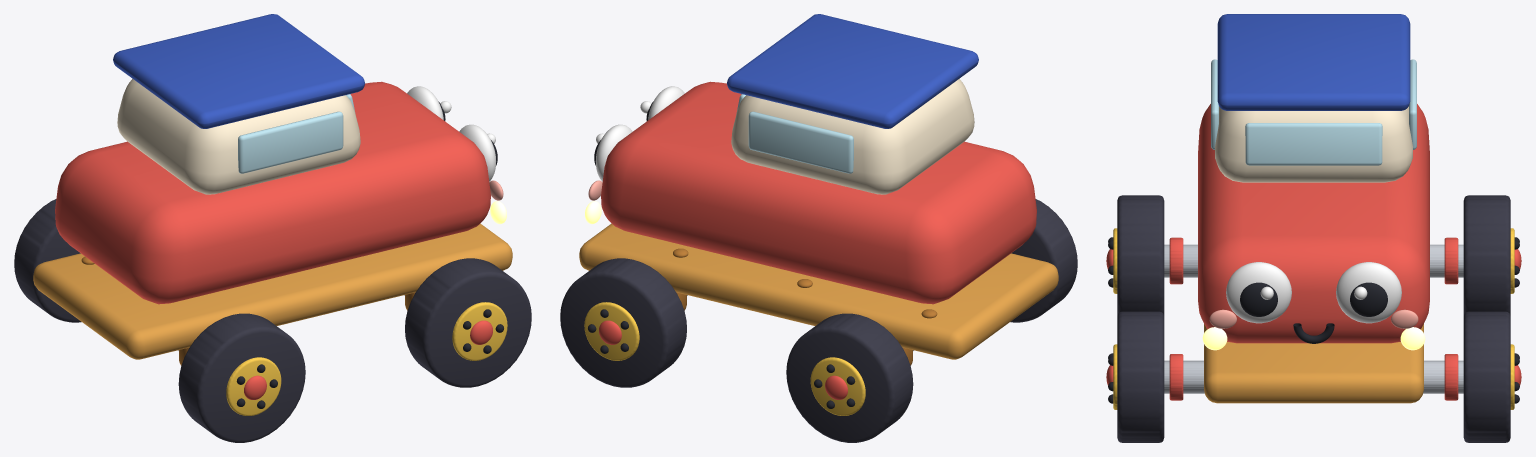
File: toy_car.glb
3 views of the same model, side by side, from view 1: azimuth 30°, elevation 25°; view 2: azimuth 150°, elevation 25°; view 3: azimuth 270°, elevation 25° (orthographic). The views are drawn at different scales.
Parts seen in each view (by area): view 1: ShellBody, ChassisBoard, RoofCap, Cabin, WheelFRTire, WheelRRTire, Window-1, WheelRLTire, WheelFRHub, WheelRRHub, EyeWhite-1, EyeWhite1; view 2: ShellBody, ChassisBoard, RoofCap, Cabin, WheelFLTire, WheelRLTire, Window1, WheelRRTire, WheelFLHub, WheelRLHub, EyeWhite1, EyeWhite-1; view 3: ShellBody, RoofCap, ChassisBoard, Cabin, WheelFLTire, WheelFRTire, FrontGlass, WheelRLTire, WheelRRTire, EyeWhite1, EyeWhite-1, AxleFrontRod (+14 smaller).
Part boxes in pixels (<box>): ShellBody: <box>55,81,490,304</box>; ChassisBoard: <box>33,223,512,359</box>; RoofCap: <box>113,14,364,128</box>; Cabin: <box>117,79,360,194</box>; WheelFRTire: <box>405,258,531,387</box>; WheelRRTire: <box>178,313,305,442</box>; Window-1: <box>238,111,343,173</box>; WheelRLTire: <box>14,199,81,322</box>; WheelFRHub: <box>452,302,507,360</box>; WheelRRHub: <box>226,357,281,415</box>; EyeWhite-1: <box>459,124,496,181</box>; EyeWhite1: <box>407,86,443,119</box>; ShellBody: <box>601,81,1036,304</box>; ChassisBoard: <box>579,223,1058,359</box>; RoofCap: <box>727,14,978,128</box>; Cabin: <box>731,79,974,194</box>; WheelFLTire: <box>560,258,686,387</box>; WheelRLTire: <box>786,313,913,442</box>; Window1: <box>748,111,853,173</box>; WheelRRTire: <box>1010,199,1077,322</box>; WheelFLHub: <box>584,302,639,360</box>; WheelRLHub: <box>810,357,865,415</box>; EyeWhite1: <box>595,124,632,181</box>; EyeWhite-1: <box>648,86,684,119</box>; ShellBody: <box>1198,104,1429,343</box>; RoofCap: <box>1217,14,1410,110</box>; ChassisBoard: <box>1204,324,1423,403</box>; Cabin: <box>1215,106,1412,182</box>; WheelFLTire: <box>1463,311,1510,442</box>; WheelFRTire: <box>1117,311,1164,442</box>; FrontGlass: <box>1245,123,1382,165</box>; WheelRLTire: <box>1463,195,1510,315</box>; WheelRRTire: <box>1117,195,1164,315</box>; EyeWhite1: <box>1336,262,1401,323</box>; EyeWhite-1: <box>1226,262,1291,323</box>; AxleFrontRod: <box>1164,360,1463,393</box>.
Size of the model in its own units: 1.73 by 1.23 by 1.51.
